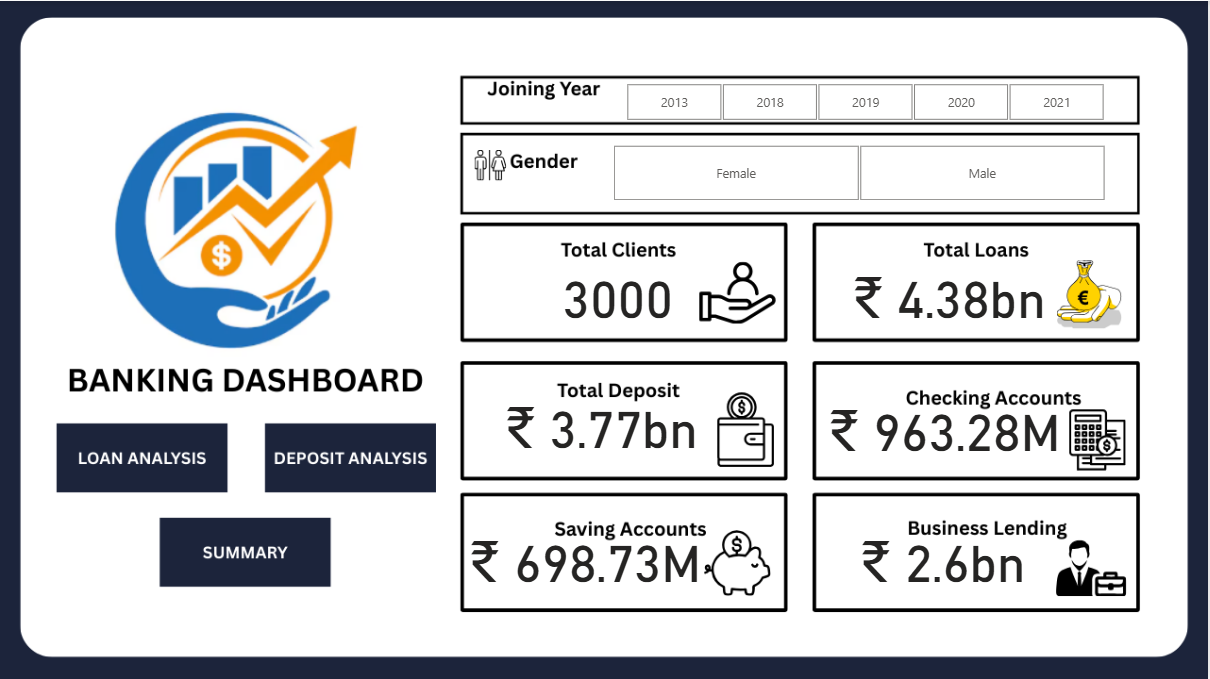

Layout of this report page (visuals, bound fields, positions):
{"tool":"powerbi","page":{"name":"Home ","canvas":[1280,720],"ordinal":0},"visuals":[{"type":"card","fields":{"Values":["banking_case customer.Name"]},"box":[566.7,270,176.7,78.3],"z":0},{"type":"slicer","fields":{"Values":["banking_case customer.GenderId"]},"box":[625,146.7,570,71.7],"z":1000},{"type":"card","fields":{"Values":["banking_case customer.Total Loan"]},"box":[886.7,270,240,78.3],"z":2000},{"type":"card","fields":{"Values":["banking_case customer.Total Deposit"]},"box":[530,408.3,215,78.3],"z":3000},{"type":"slicer","fields":{"Values":["banking_case customer.Year of Joining"]},"box":[640,81.7,555,51.7],"z":4000},{"type":"card","fields":{"Values":["banking_case customer.Saving Accounts"]},"box":[491.7,550,256.7,78.3],"z":5000},{"type":"card","fields":{"Values":["banking_case customer.Checking Accounts"]},"box":[871.7,411.7,258.3,78.3],"z":6000},{"type":"card","fields":{"Values":["banking_case customer.Business Lending"]},"box":[886.7,550,226.7,78.3],"z":7000},{"type":"actionButton","box":[65,450,170,66.7],"z":8000},{"type":"actionButton","box":[283.3,450,170,66.7],"z":9000},{"type":"actionButton","box":[174,550,170,66.7],"z":10000},{"type":"actionButton","box":[161.7,25,170,40],"z":11000},{"type":"actionButton","box":[343.3,25,186.7,40],"z":12000},{"type":"actionButton","box":[530,25,170,40],"z":13000}]}

Visuals, with their boxes in screenshot pixels (x1, y1, x2, y2), scaled from the page's 1280x720 canvas onto the 1210x679 screenshot:
card - banking_case customer.Name: bbox=[536, 255, 703, 328]
slicer - banking_case customer.GenderId: bbox=[591, 138, 1130, 206]
card - banking_case customer.Total Loan: bbox=[838, 255, 1065, 328]
card - banking_case customer.Total Deposit: bbox=[501, 385, 704, 459]
slicer - banking_case customer.Year of Joining: bbox=[605, 77, 1130, 126]
card - banking_case customer.Saving Accounts: bbox=[465, 519, 707, 593]
card - banking_case customer.Checking Accounts: bbox=[824, 388, 1068, 462]
card - banking_case customer.Business Lending: bbox=[838, 519, 1053, 593]
actionButton: bbox=[61, 424, 222, 487]
actionButton: bbox=[268, 424, 429, 487]
actionButton: bbox=[164, 519, 325, 582]
actionButton: bbox=[153, 24, 314, 61]
actionButton: bbox=[325, 24, 501, 61]
actionButton: bbox=[501, 24, 662, 61]
